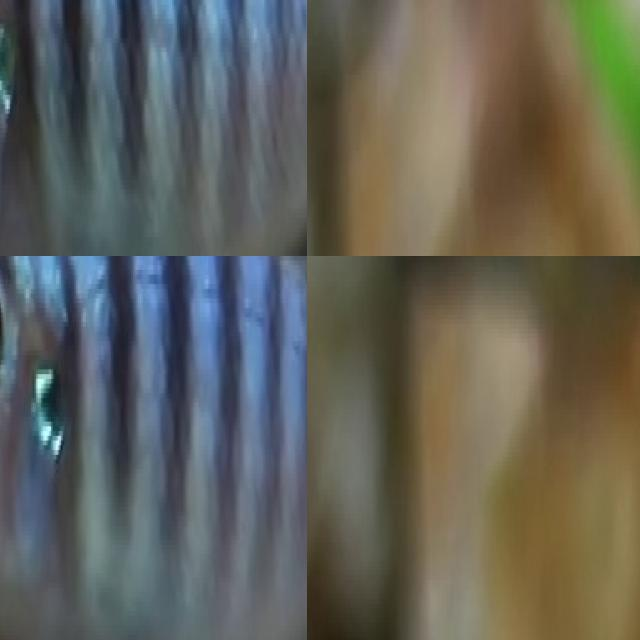fish: (0, 256, 307, 640), (0, 0, 307, 256)
